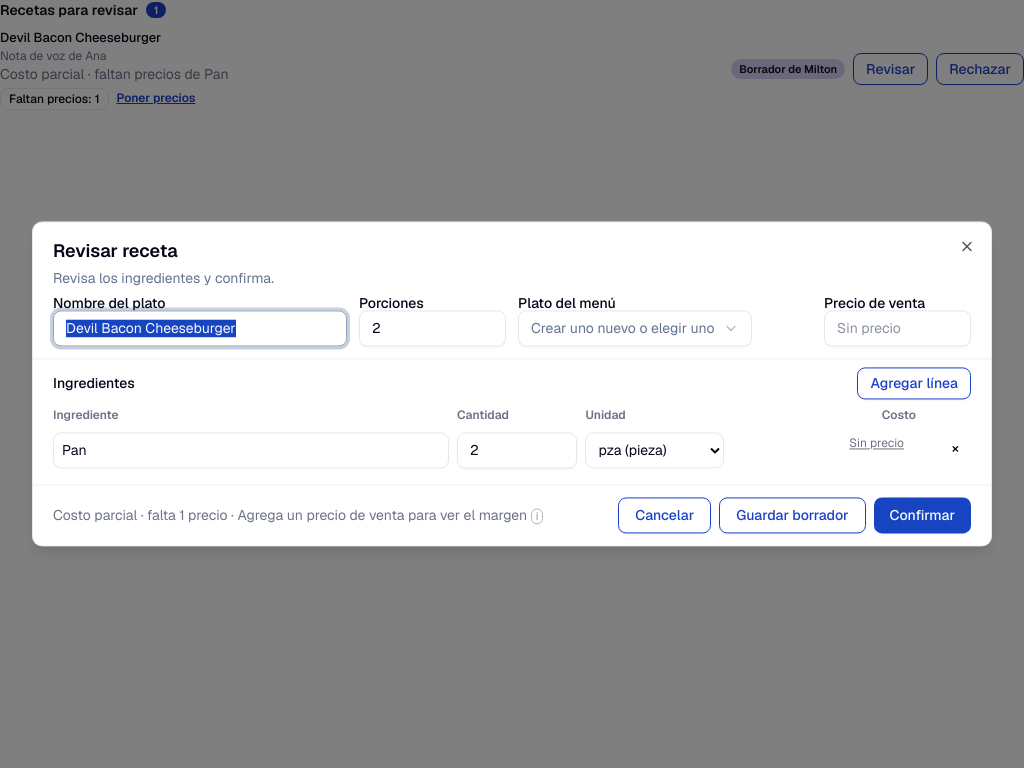
the price popover › «Sin precio» opens ONE field and one blue «Guardar», with the dishes in small gray text; no Cancelar
Click the button with aria-label "Precio de Pan": coordinates (877, 444) [845, 436, 908, 453]
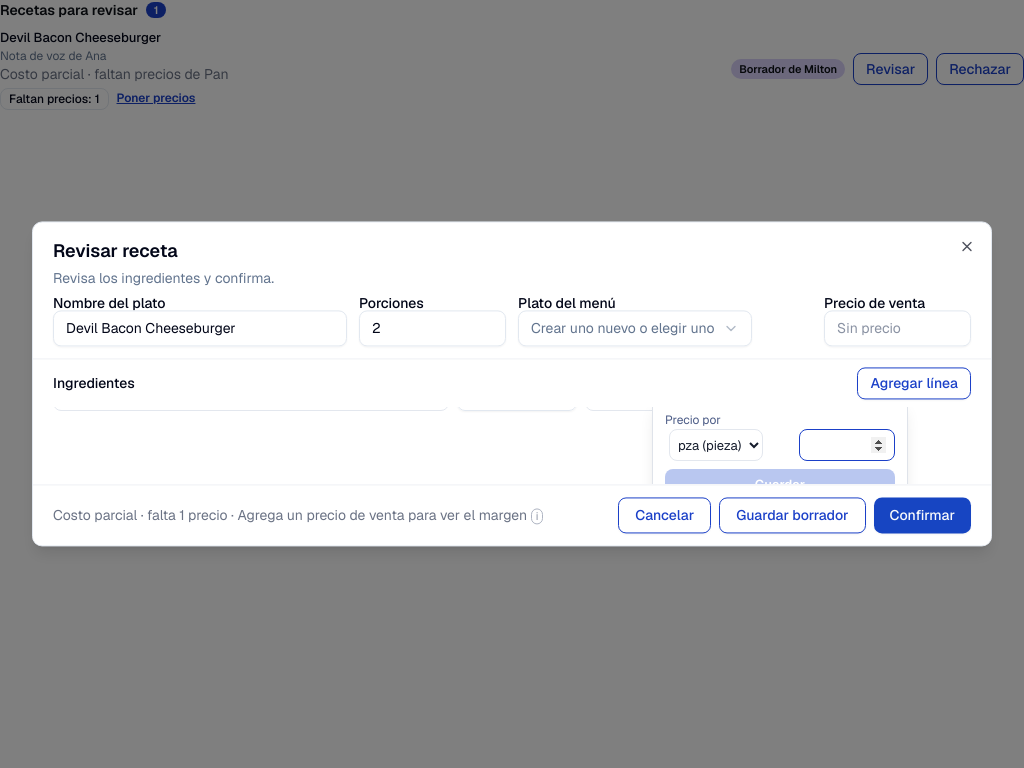
Expected: the text "Precio por" is shown, [665, 413, 763, 462]
